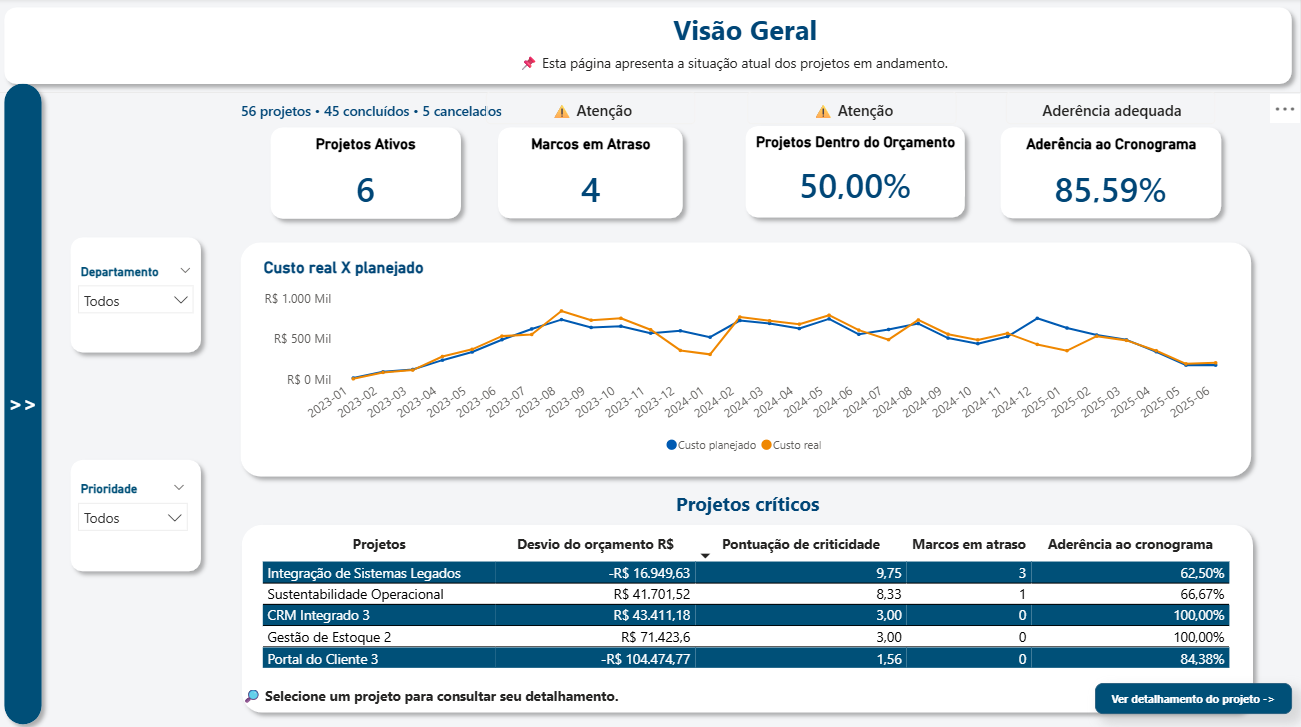

What the dashboard file says about the page in this screenshot:
{"tool":"powerbi","page":{"name":"Visão Geral","canvas":[1280,720],"ordinal":0},"visuals":[{"type":"textbox","box":[534.2,7.9,401.6,56.8],"z":0,"group":"g7"},{"type":"shape","box":[0,74.7,54.7,645.1],"z":0,"group":"g3"},{"type":"shape","box":[725,115.6,232.7,107.5],"z":0,"group":"g9"},{"type":"shape","box":[260.5,117.6,204.3,107.5],"z":0,"group":"g5"},{"type":"shape","box":[483.3,117.6,198.7,107.1],"z":0,"group":"g8"},{"type":"shape","box":[974.5,117.6,234,107.1],"z":0,"group":"g10"},{"type":"shape","box":[64.9,224.7,145.6,130.7],"z":0,"group":"g2"},{"type":"shape","box":[231.6,229.8,1006.7,247.2],"z":0,"group":"g4"},{"type":"group","id":"g1","title":"Grupo 7","box":[64.9,442.9,145.6,127.2],"z":0},{"type":"shape","box":[64.9,442.9,145.6,127.2],"z":0,"group":"g1"},{"type":"shape","box":[232.3,506.2,1007.3,201.7],"z":0,"group":"g6"},{"type":"textbox","box":[437,49.7,568.3,38.3],"z":1000,"group":"g7"},{"type":"cardVisual","title":"Marcos em Atraso","fields":{"Data":["Medidas.Marcos_Em_Atraso"]},"box":[505.2,134.8,155.8,83.1],"z":1000,"group":"g8"},{"type":"cardVisual","title":"Projetos Ativos","fields":{"Data":["CountNonNull(dim_projeto.projeto_id)"]},"box":[283,134.9,160.2,83.4],"z":1000,"group":"g5"},{"type":"cardVisual","title":"Projetos Dentro do Orçamento","fields":{"Data":["Medidas.% Projetos Dentro do Orçamento (Ativos)"]},"box":[727.5,135.1,237.5,82.5],"z":1000,"group":"g9"},{"type":"cardVisual","title":"Aderência ao Cronograma","fields":{"Data":["Medidas.% SPI (Ativos)"]},"box":[1000.9,135.1,183.1,83.1],"z":1000,"group":"g10"},{"type":"group","id":"g2","title":"Grupo 8","box":[64.9,224.7,145.5,131.2],"z":1000},{"type":"lineChart","title":"Custo real X planejado","fields":{"Y":["Sum(fato_financeiro_mensal.custo_planejado_rs)","Sum(fato_financeiro_mensal.custo_realizado_rs)"],"Category":["fato_financeiro_mensal.ano_mes"]},"box":[258,253.9,953,200.1],"z":1000,"group":"g4"},{"type":"slicer","fields":{"Values":["dim_projeto.departamento"]},"box":[70.8,255.8,133.3,77.2],"z":1000,"group":"g2"},{"type":"actionButton","title":">>>","box":[0,372,54.9,46.9],"z":1000,"group":"g3"},{"type":"slicer","fields":{"Values":["dim_projeto.prioridade"]},"box":[71.5,468,127.3,85.7],"z":1000,"group":"g1"},{"type":"tableEx","fields":{"Values":["dim_projeto.nome_projeto","Medidas.Desvio_Orcamento_RS","Medidas.Pontuacao_Criticidade","Medidas.Marcos_Em_Atraso","Medidas.% SPI"]},"box":[255.3,519,958.4,149.4],"z":1000,"group":"g6"},{"type":"cardVisual","title":"Projetos Ativos","fields":{"Data":["Medidas.Resumo Status Projetos"]},"box":[162.9,81.4,411.4,54.3],"z":2000},{"type":"shape","box":[0,0,1277.6,93.1],"z":3000},{"type":"group","id":"g3","title":"Grupo 2","box":[0,74.7,54.9,645.1],"z":5000},{"type":"group","id":"g4","title":"Grupo 3","box":[231.6,229.8,1005.3,247.4],"z":6000},{"type":"group","id":"g5","title":"Grupo 5","box":[260.5,117.6,201.8,108.8],"z":7000,"group":"g11"},{"type":"group","id":"g6","title":"Grupo 4","box":[232.3,506.2,1007.3,201.7],"z":7000},{"type":"textbox","box":[595.8,477.5,281.7,39.4],"z":8000},{"type":"group","id":"g7","title":"Grupo 6","box":[437,7.9,568.3,80.2],"z":9000},{"type":"group","id":"g8","title":"Grupo 5","box":[483.3,117.6,198.2,108.8],"z":9000,"group":"g11"},{"type":"group","id":"g9","title":"Grupo 5","box":[725,115.6,240,107.5],"z":10000,"group":"g11"},{"type":"actionButton","title":"Ver projetos ->","box":[1076.2,670,192.5,30],"z":10000},{"type":"group","id":"g10","title":"Grupo 5","box":[974.5,117.6,234,107.1],"z":11000,"group":"g11"},{"type":"textbox","box":[237.7,668.8,429.9,31.2],"z":11000},{"type":"group","id":"g11","title":"Grupo 9","box":[260.5,74.6,950.4,151.8],"z":12000},{"type":"cardVisual","fields":{"Data":["Medidas.Aviso_Marcos_Atraso"]},"box":[462.9,74.6,239,66.8],"z":13000,"group":"g11"},{"type":"cardVisual","fields":{"Data":["Medidas.Aviso_Orcamento_Card"]},"box":[718.7,74.6,239,66.8],"z":14000,"group":"g11"},{"type":"cardVisual","fields":{"Data":["Medidas.Aviso_Aderencia_Cronograma (Ativos)"]},"box":[971.8,74.6,239,66.8],"z":15000,"group":"g11"}]}

Visuals, with their boxes in screenshot pixels (x1, y1, x2, y2), scaled from the page's 1280x720 canvas onto the 1301x727 screenshot:
textbox: left=543, top=8, right=951, bottom=65
shape: left=0, top=75, right=56, bottom=726
shape: left=737, top=117, right=973, bottom=225
shape: left=265, top=119, right=472, bottom=227
shape: left=491, top=119, right=693, bottom=227
shape: left=990, top=119, right=1228, bottom=227
shape: left=66, top=227, right=214, bottom=359
shape: left=235, top=232, right=1259, bottom=482
"Grupo 7" group: left=66, top=447, right=214, bottom=576
shape: left=66, top=447, right=214, bottom=576
shape: left=236, top=511, right=1260, bottom=715
textbox: left=444, top=50, right=1022, bottom=89
"Marcos em Atraso" cardVisual: left=513, top=136, right=672, bottom=220
"Projetos Ativos" cardVisual: left=288, top=136, right=450, bottom=220
"Projetos Dentro do Orçamento" cardVisual: left=739, top=136, right=981, bottom=220
"Aderência ao Cronograma" cardVisual: left=1017, top=136, right=1203, bottom=220
"Grupo 8" group: left=66, top=227, right=214, bottom=359
"Custo real X planejado" lineChart: left=262, top=256, right=1231, bottom=458
slicer - dim_projeto.departamento: left=72, top=258, right=207, bottom=336
">>>" actionButton: left=0, top=376, right=56, bottom=423
slicer - dim_projeto.prioridade: left=73, top=473, right=202, bottom=559
tableEx - dim_projeto.nome_projeto x Medidas.Desvio_Orcamento_RS: left=259, top=524, right=1234, bottom=675
"Projetos Ativos" cardVisual: left=166, top=82, right=584, bottom=137
shape: left=0, top=0, right=1299, bottom=94
"Grupo 2" group: left=0, top=75, right=56, bottom=726
"Grupo 3" group: left=235, top=232, right=1257, bottom=482
"Grupo 5" group: left=265, top=119, right=470, bottom=229
"Grupo 4" group: left=236, top=511, right=1260, bottom=715
textbox: left=606, top=482, right=892, bottom=522
"Grupo 6" group: left=444, top=8, right=1022, bottom=89
"Grupo 5" group: left=491, top=119, right=693, bottom=229
"Grupo 5" group: left=737, top=117, right=981, bottom=225
"Ver projetos ->" actionButton: left=1094, top=677, right=1290, bottom=707
"Grupo 5" group: left=990, top=119, right=1228, bottom=227
textbox: left=242, top=675, right=679, bottom=707
"Grupo 9" group: left=265, top=75, right=1231, bottom=229
cardVisual - Medidas.Aviso_Marcos_Atraso: left=470, top=75, right=713, bottom=143
cardVisual - Medidas.Aviso_Orcamento_Card: left=730, top=75, right=973, bottom=143
cardVisual - Medidas.Aviso_Aderencia_Cronograma (Ativos): left=988, top=75, right=1231, bottom=143
